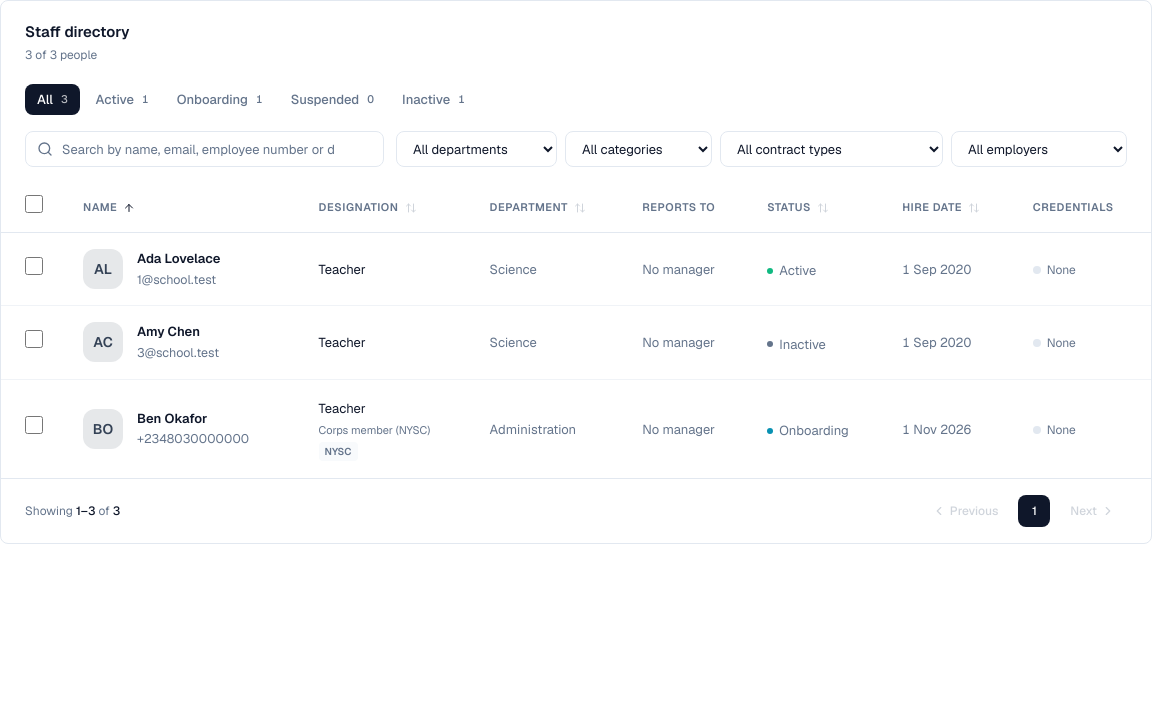
Test: StaffDirectory › tracks selection and shows the bulk bar
The width and height of the screenshot is (1152, 720).
Step 1. Click the checkbox named "select ada lovelace" → click(34, 266), box [25,257,43,275]
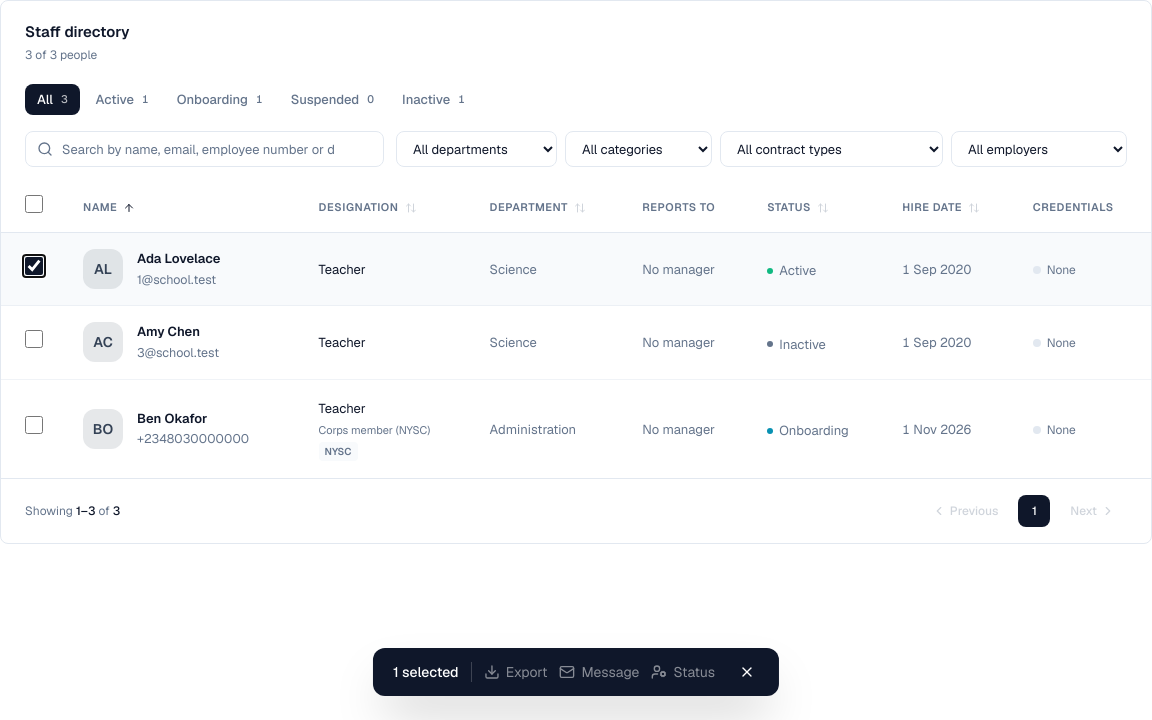
Step 2. Click the checkbox named "select ben okafor" → click(34, 425), box [25,416,43,434]
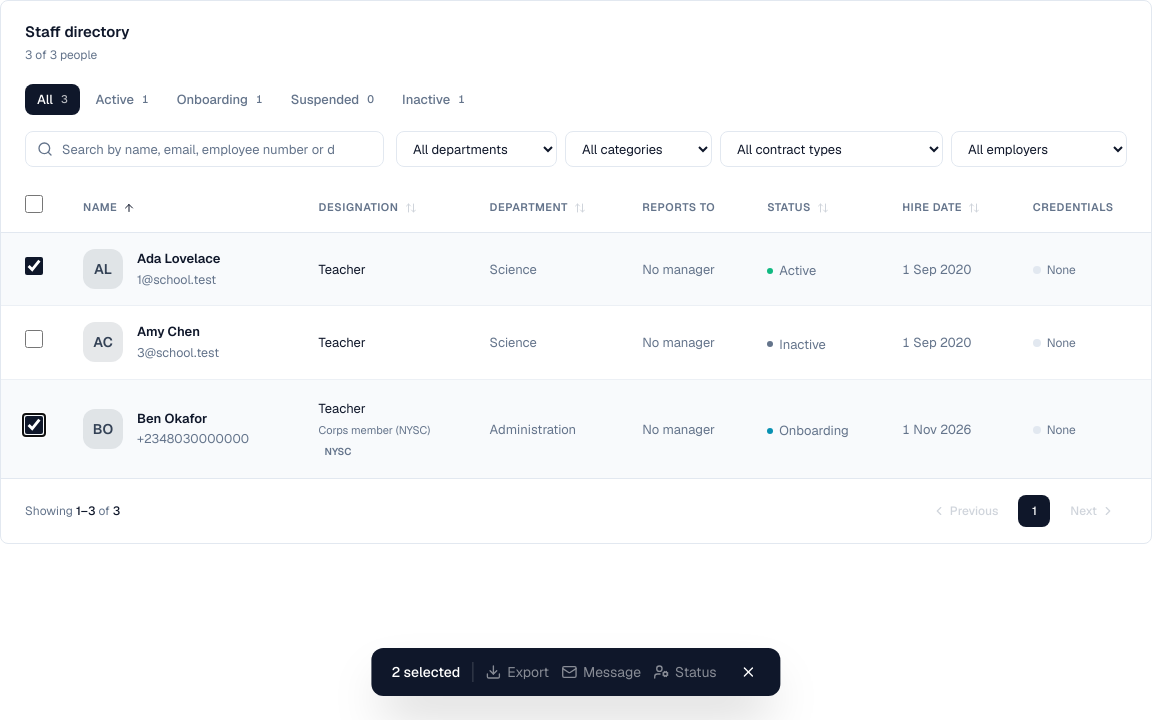
Check: the text "2 selected" is shown, box [391,662,460,682]
Step 3. Click the checkbox named "select all on this page" → click(34, 204), box [25,195,43,213]
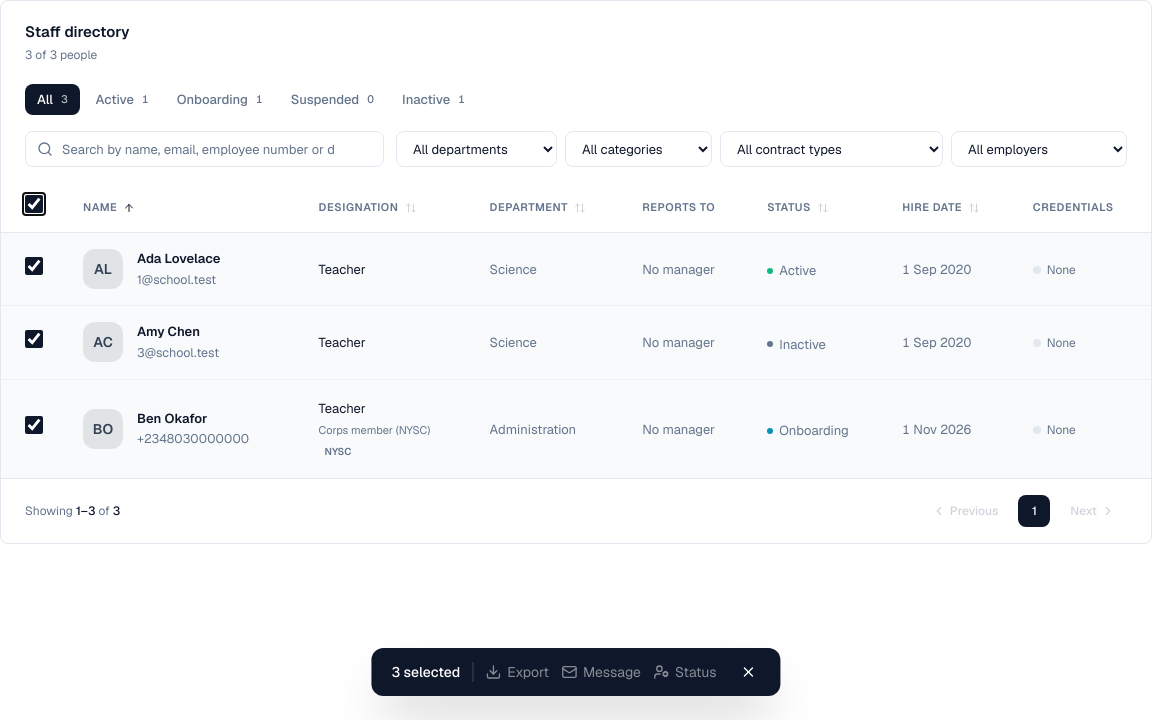
Check: the text "3 selected" is shown, box [391,662,460,682]
